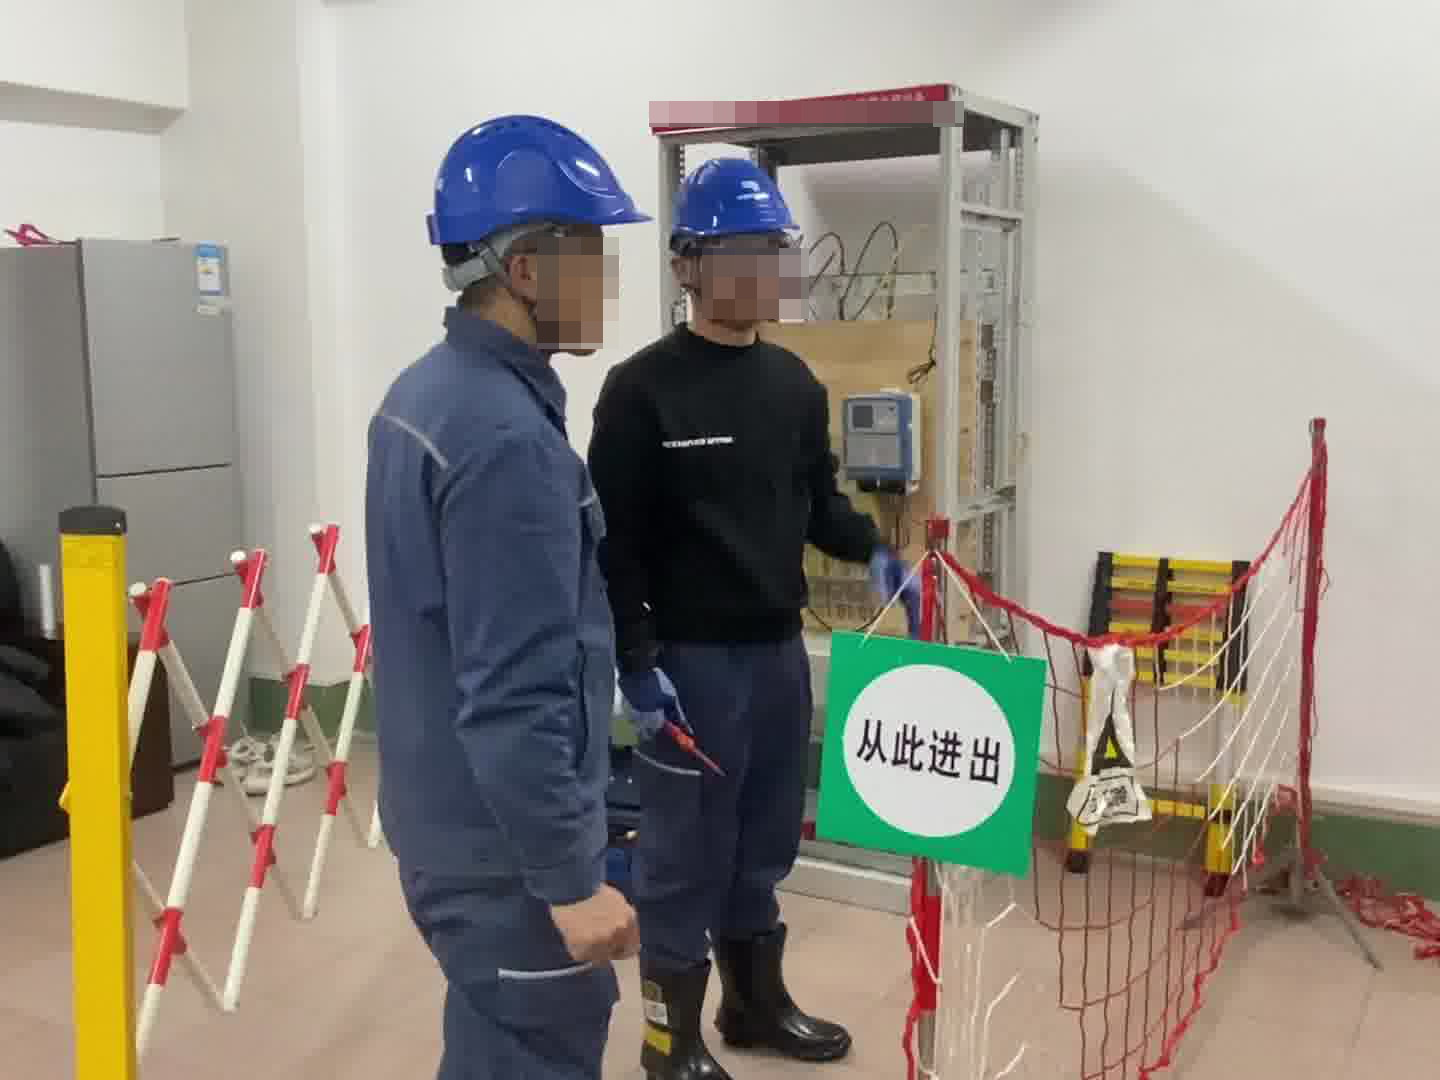downsuit: (632, 630, 814, 972), (405, 889, 625, 1080)
glove: (623, 662, 688, 755), (868, 536, 933, 616)
goggles: (673, 231, 798, 334)
halt: (419, 114, 647, 351), (663, 152, 807, 346)
hand: (529, 883, 641, 967)
inear: (496, 244, 566, 323)
intosign: (832, 638, 1037, 865)
person: (336, 107, 678, 1080), (588, 144, 855, 1076)
shoe: (650, 917, 854, 1077)
upcloth: (600, 321, 866, 613)
upsuit: (352, 335, 637, 929)
